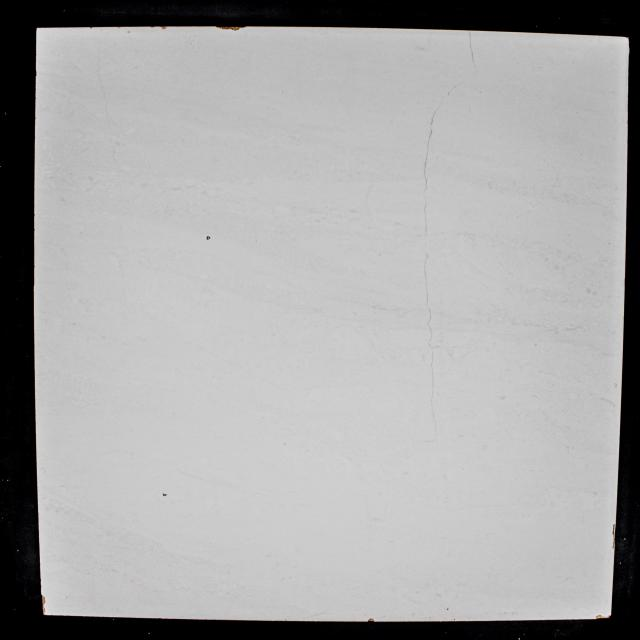edge-chipping: (215, 26, 247, 30), (41, 594, 46, 616), (596, 615, 611, 619), (624, 36, 630, 41), (161, 26, 167, 30), (368, 618, 374, 622), (150, 26, 155, 28), (117, 26, 121, 28), (89, 27, 93, 29), (35, 97, 36, 100), (34, 228, 35, 230), (34, 214, 35, 216), (36, 71, 36, 76)
hole: (162, 493, 167, 497), (207, 236, 210, 240), (612, 545, 614, 549), (612, 531, 614, 535), (613, 524, 615, 528), (447, 608, 449, 610), (613, 541, 614, 545), (612, 529, 614, 531), (454, 619, 455, 620), (614, 538, 614, 542), (614, 535, 614, 538)
line: (424, 110, 436, 428), (437, 81, 463, 109), (468, 30, 476, 67)
